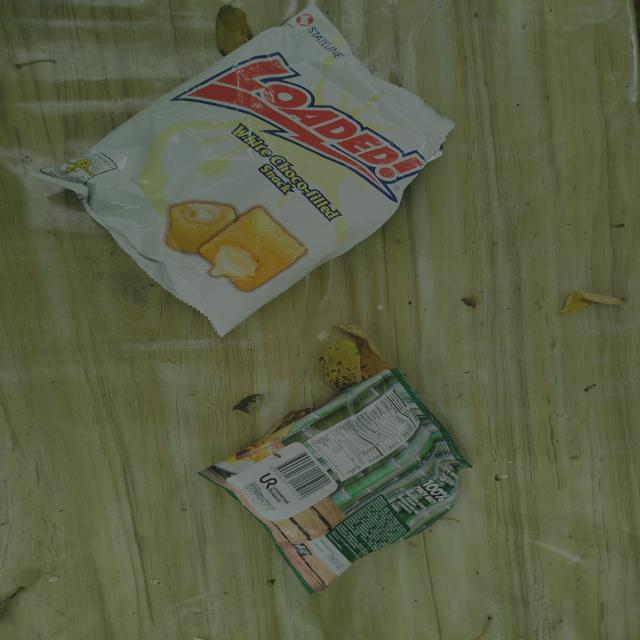residual: (15, 0, 467, 357), (192, 357, 499, 600)
